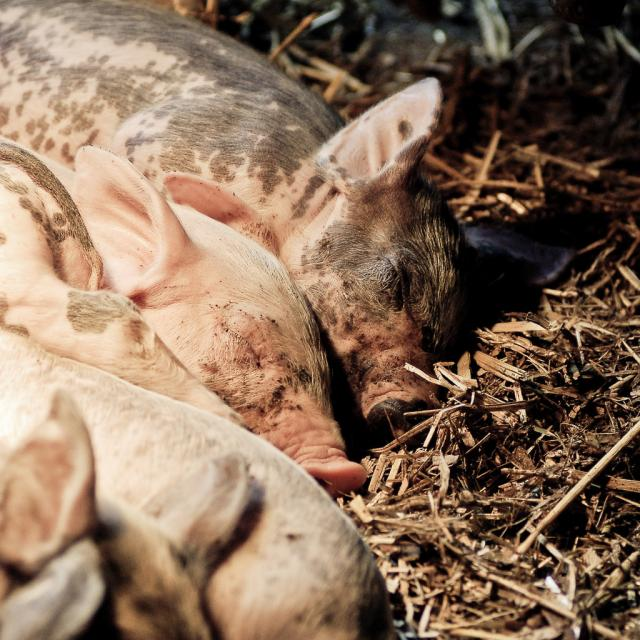Pig: (0, 0, 576, 639)
